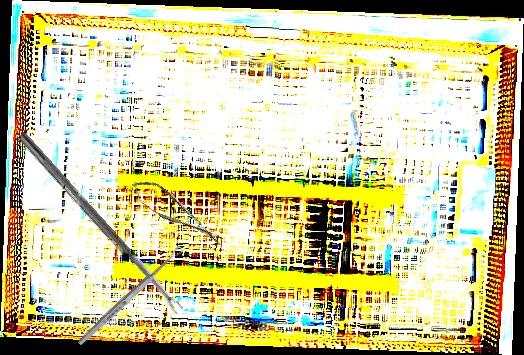Micro Scissor: (126, 171, 229, 256)
Surgical Spoon: (16, 131, 184, 316), (76, 244, 185, 348)
